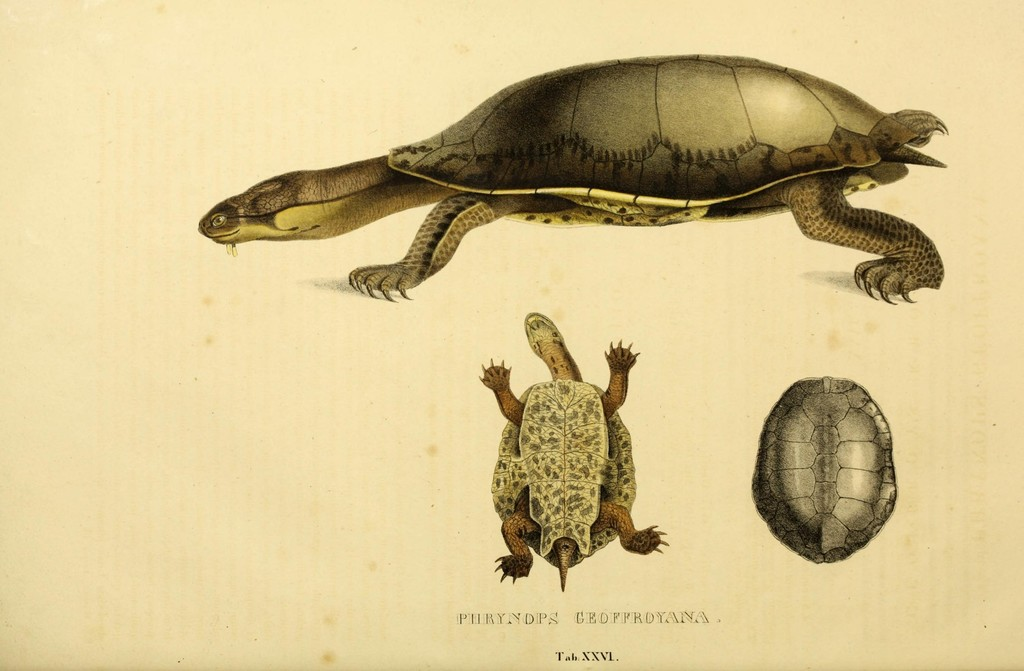Sea turtles: (192, 42, 954, 304), (483, 308, 666, 593)
